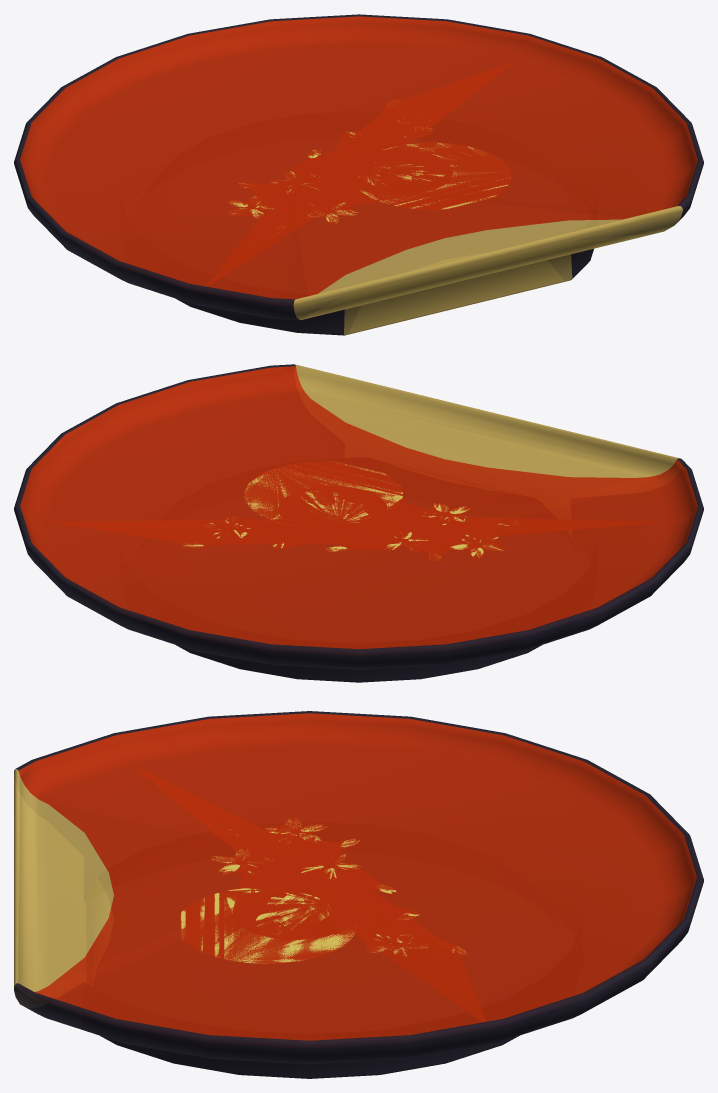
File: saucer.fbx
The picture shows the model from 3 angles, top to bottom: view 1: azimuth 30°, elevation 25°; view 2: azimuth 150°, elevation 25°; view 3: azimuth 270°, elevation 25°; orthographic projection. The views are drawn at different scales.
Parts seen in each view (by area): view 1: 和菓子皿; view 2: 和菓子皿; view 3: 和菓子皿.
Part boxes in pixels (x1=…): 和菓子皿: x1=14, y1=14, x2=703, y2=335; 和菓子皿: x1=14, y1=364, x2=703, y2=682; 和菓子皿: x1=14, y1=711, x2=703, y2=1078.
Bounding box in the file's own units: 12.87 × 1.58 × 11.26.
Materials: 1 (1 with a texture image).
